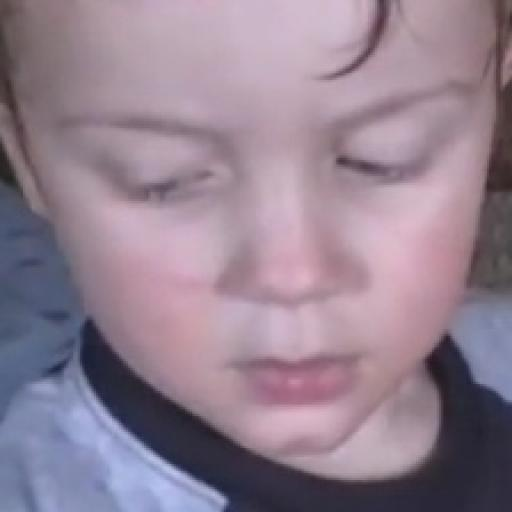Autism: (46, 0, 486, 463)
